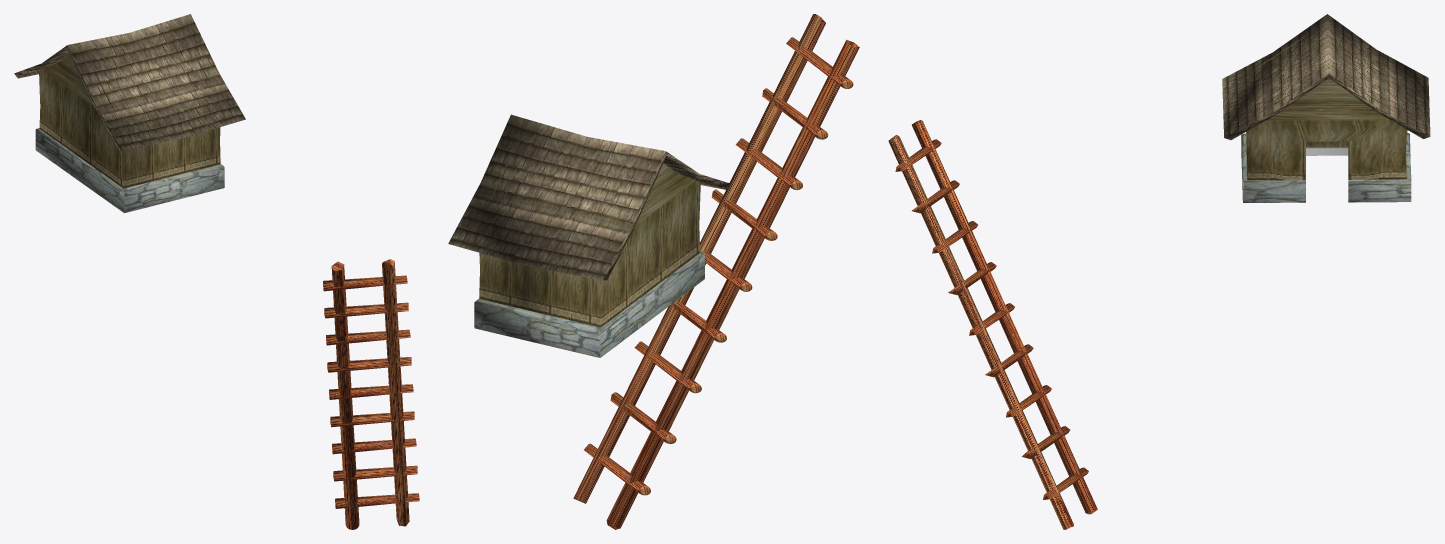
The model's file is lom_model2.fbx.
3 renders of one model, left to right at view 1: azimuth 30°, elevation 25°; view 2: azimuth 150°, elevation 25°; view 3: azimuth 270°, elevation 25°, orthographic. The views are drawn at different scales.
Visible parts, largest first — view 1: chatka2, zebrik2; view 2: chatka2, zebrik2; view 3: chatka2, zebrik2.
Part boxes in pixels (x1,y1,x2,y2): chatka2: (14,14,245,212); zebrik2: (323,259,419,529); chatka2: (448,114,730,357); zebrik2: (573,14,859,529); chatka2: (1222,14,1430,202); zebrik2: (888,120,1097,529).
Bounding box in the file's own units: 82.18 × 162 × 189.
Materials: 2 (2 with a texture image).
